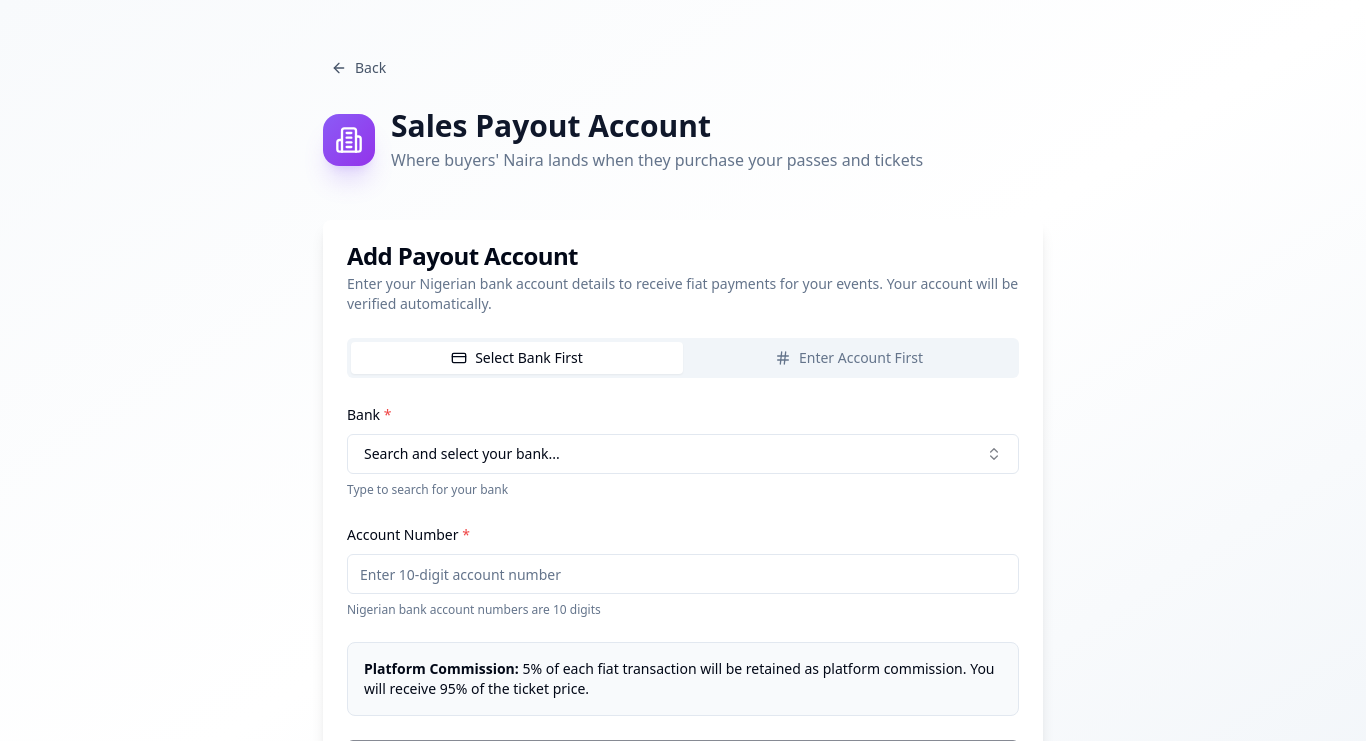
Test: VendorPayoutAccount › Form Validation › only allows numeric input for account number
The image size is (1366, 741).
Type "abc123def" into the field labelled "Account Number *". click: (683, 574)
box: [347,554,1019,594]
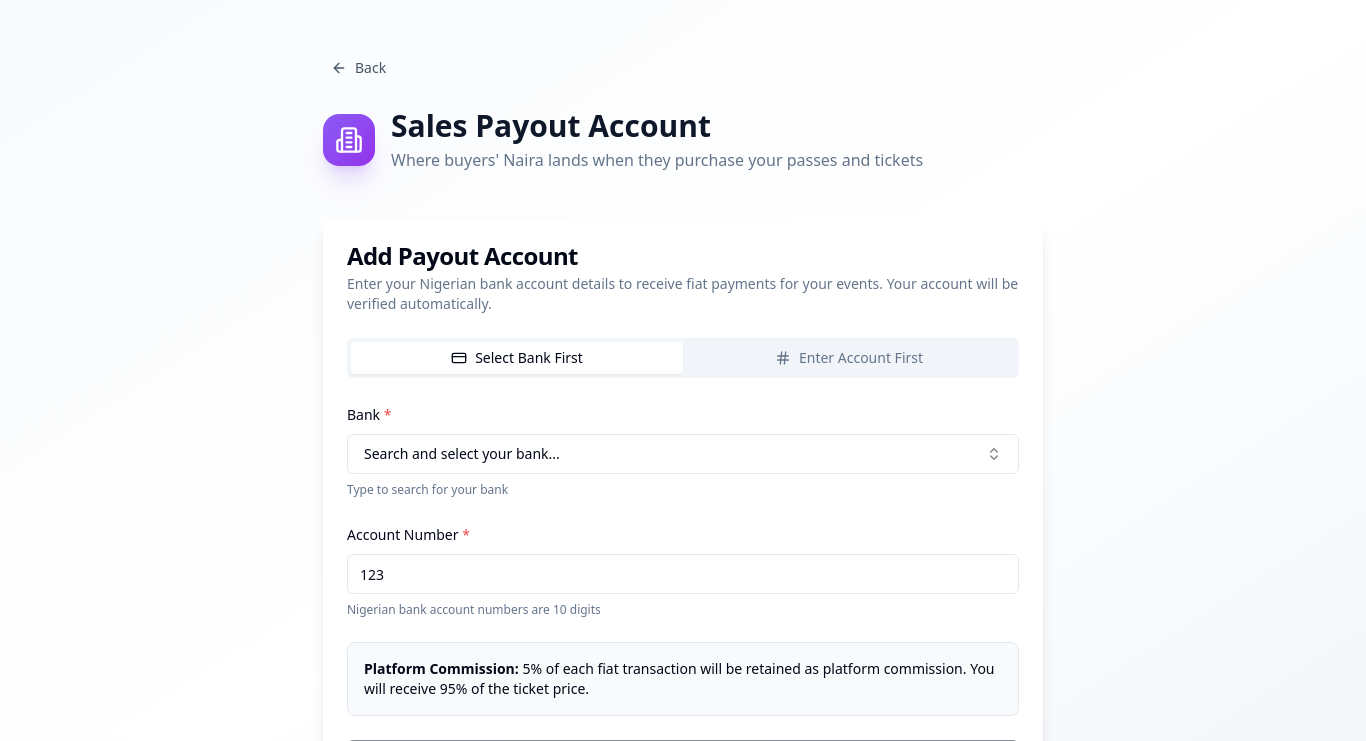
expect the field labelled "Account Number *" holds "123": met, box [347,554,1019,594]
